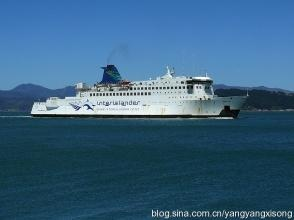youlun: (28, 55, 252, 118)
